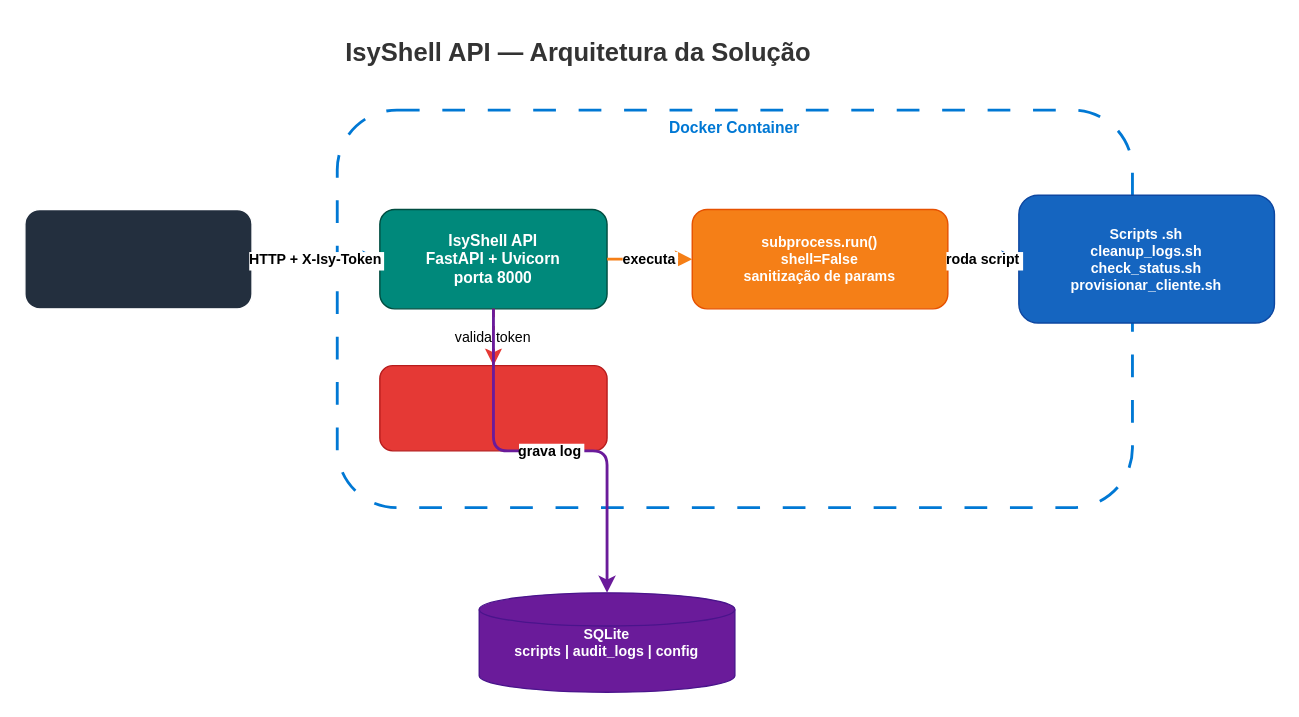
Image size: 1299x717. Some labels were removed from this diagram. The shapes that lost their labels are listed below. From the top down, each one's box as (x1, y1, x2, y2) in pixels, then its label:
(23, 208, 252, 309): Cliente Dashboard Web ou Ferramenta HTTP
(378, 364, 607, 451): Auth X-Isy-Token validação via SQLite
